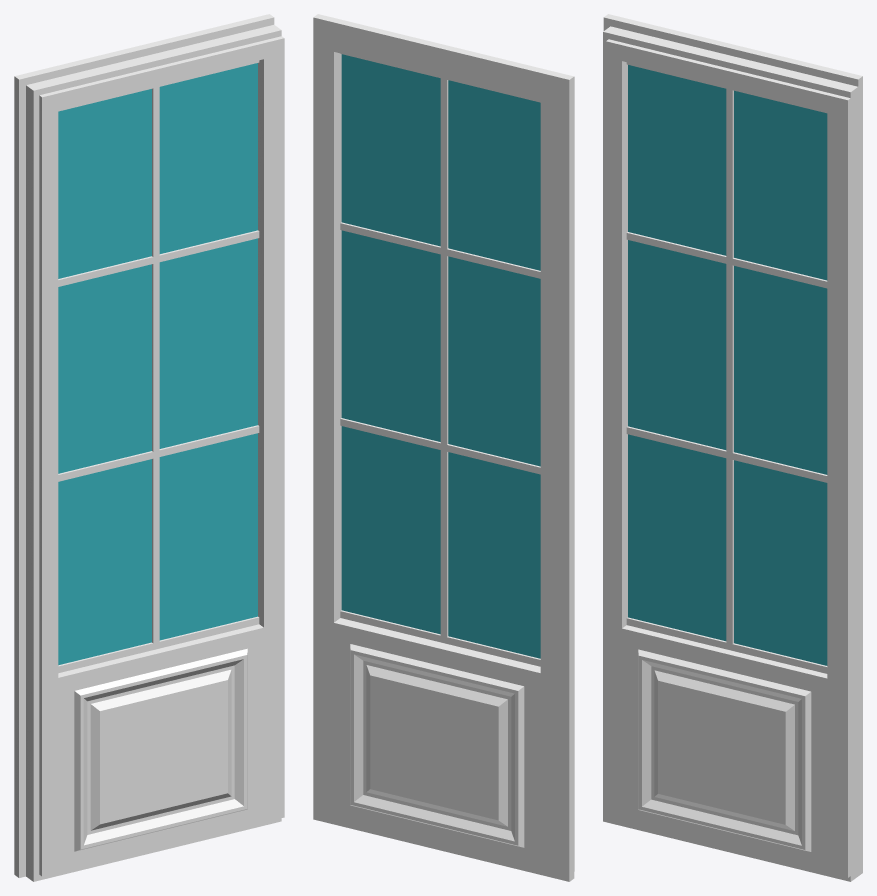
Rendered from Mesh_Door_04_Right.FBX.
3 renders of one model, left to right at view 1: azimuth 30°, elevation 25°; view 2: azimuth 150°, elevation 25°; view 3: azimuth 330°, elevation 25°, orthographic.
Parts seen in each view (by area): view 1: Mesh_Door_04_Right; view 2: Mesh_Door_04_Right; view 3: Mesh_Door_04_Right.
Part boxes in pixels (box(x1,y1,x2,y2)): Mesh_Door_04_Right: box(14, 14, 284, 881); Mesh_Door_04_Right: box(313, 14, 574, 881); Mesh_Door_04_Right: box(603, 14, 862, 881).
Size of the model in its own units: 78.6 by 235 by 11.
